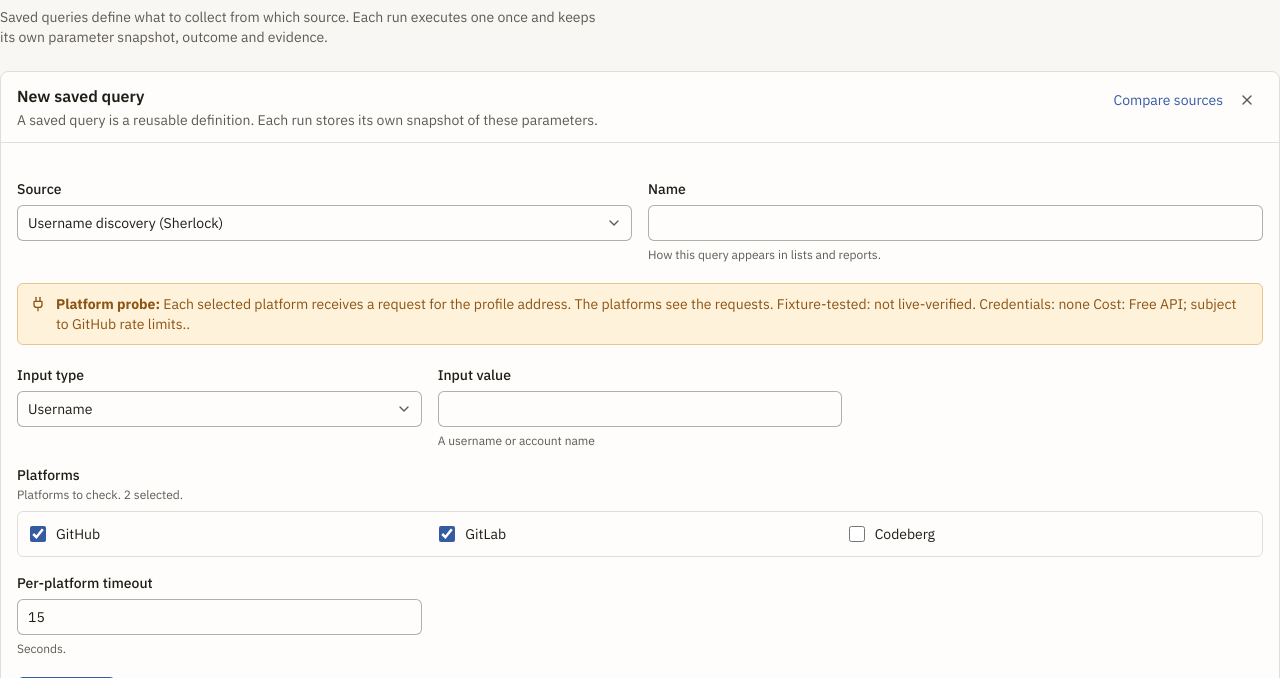
QueriesView › renders connector parameters and saves only values that differ from the defaults
The image size is (1280, 678).
Expected: the element "Platforms" is shown, 17,465 -> 1263,557
Expected: the text "Platform probe:" is shown, 56,295 -> 160,313
Click the checkbox labelled "Codeberg" at (857, 534), box 849,526 -> 865,542
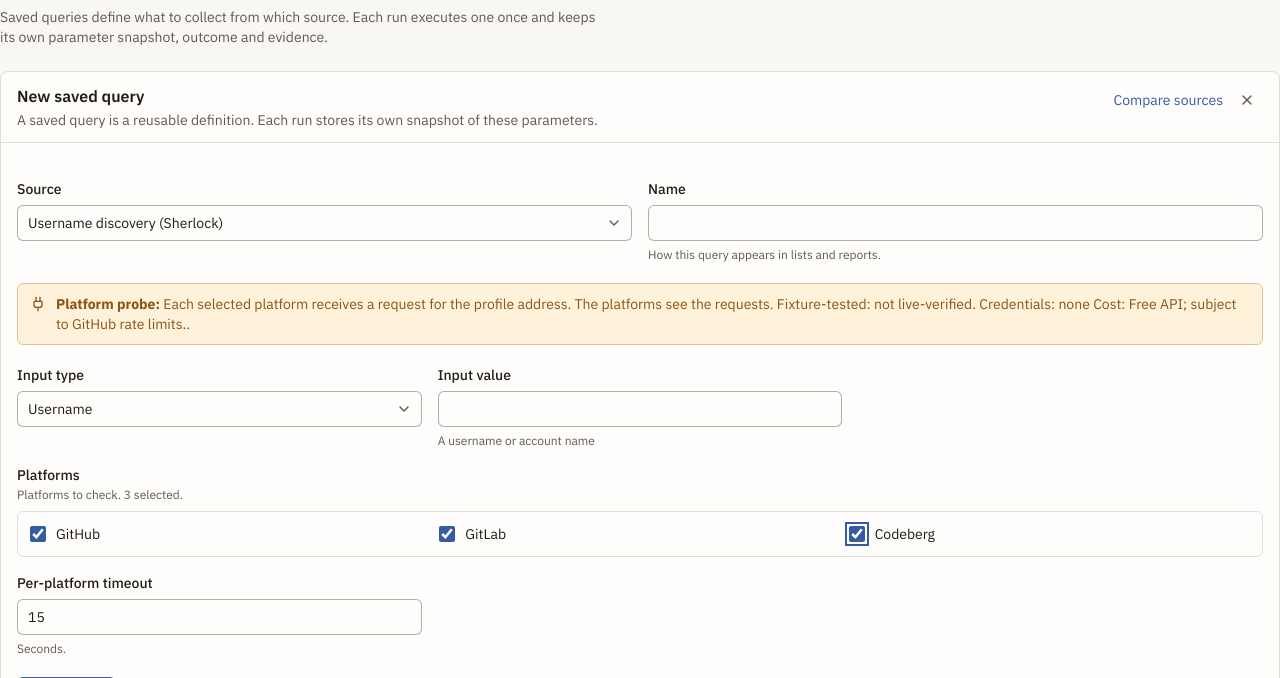
Click the checkbox labelled "GitLab" at (447, 534), box 439,526 -> 455,542
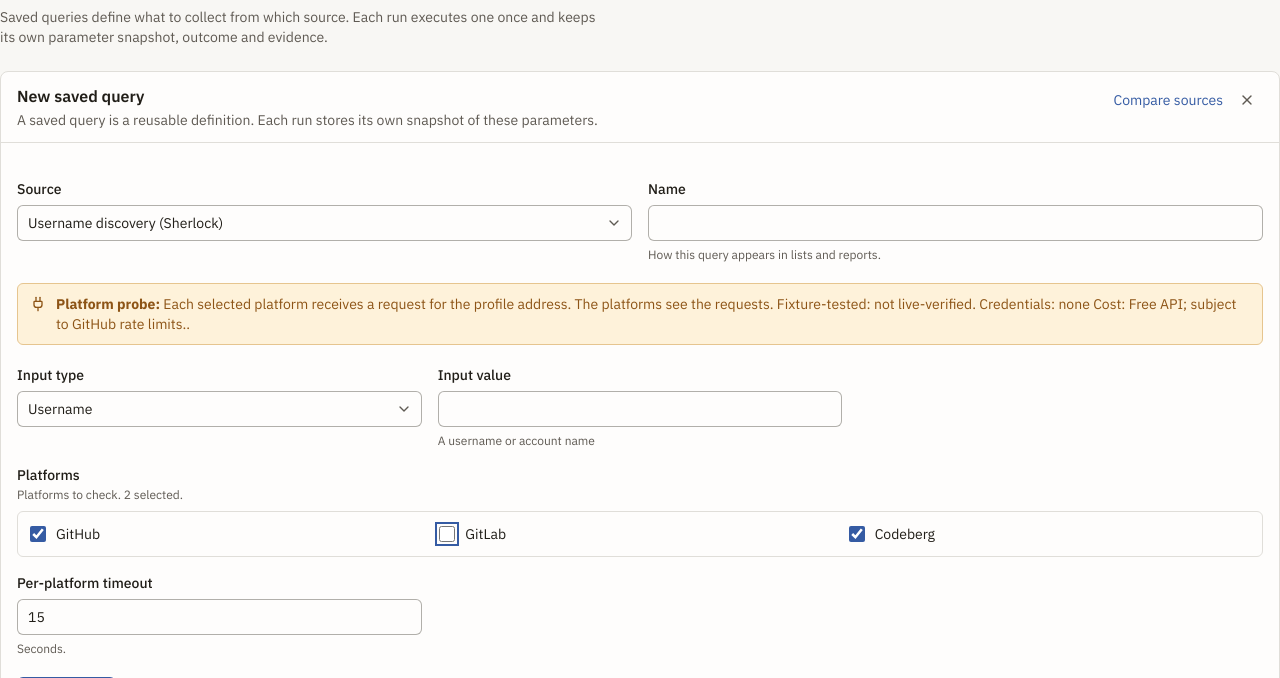
Type "Handle check" into the field labelled "Name" at (956, 223), box 648,205 -> 1263,241
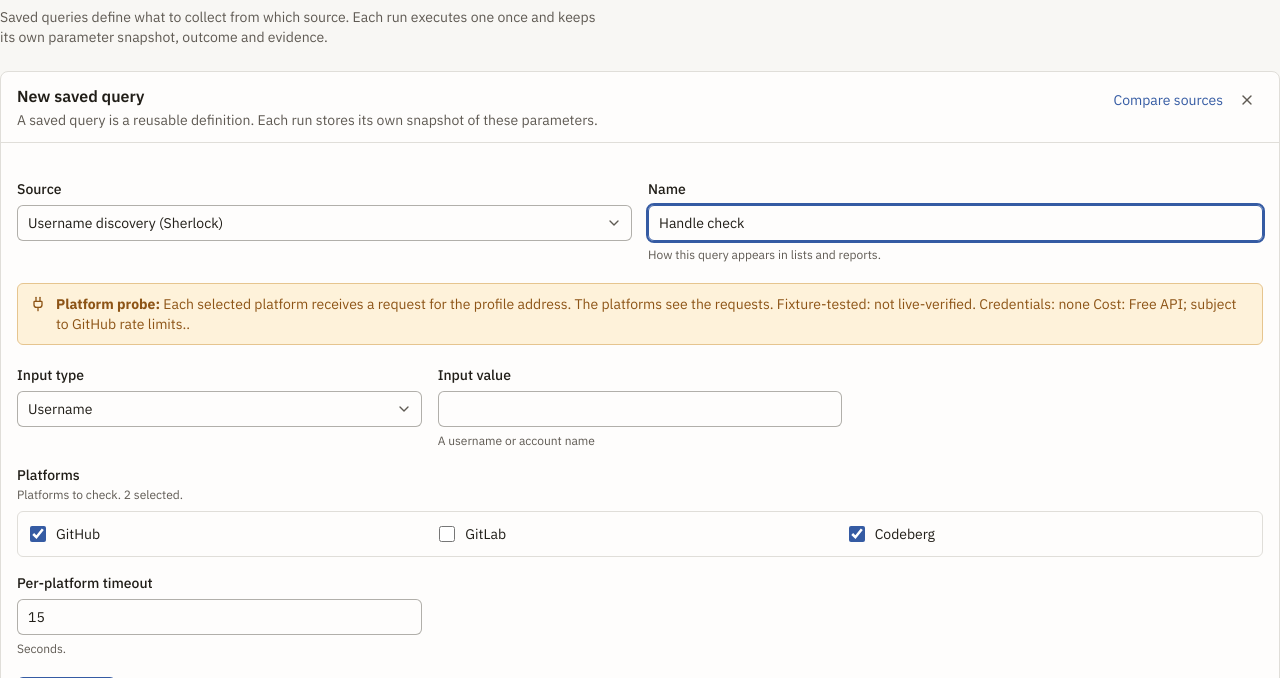
Type "ornekdev" into the field labelled "Input value" at (640, 409), box 438,391 -> 842,427
(page scrolled)
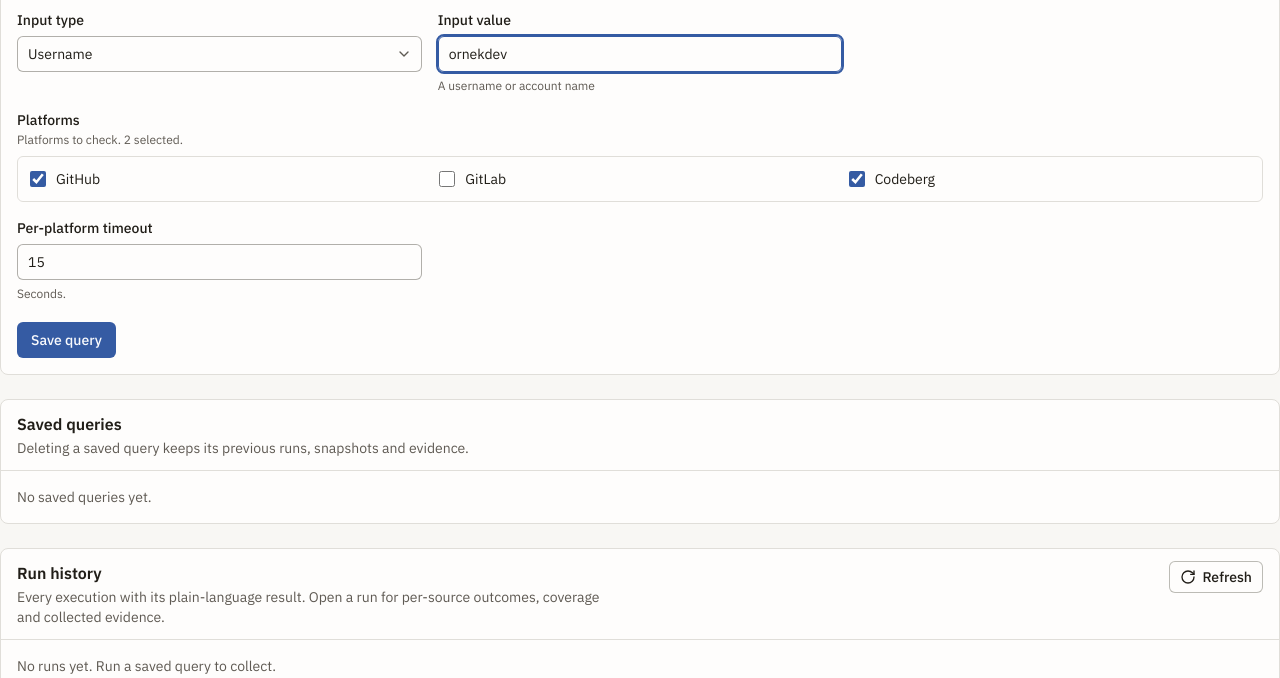
Click the button "Save query" at (66, 340), box 17,322 -> 116,358
(page scrolled)
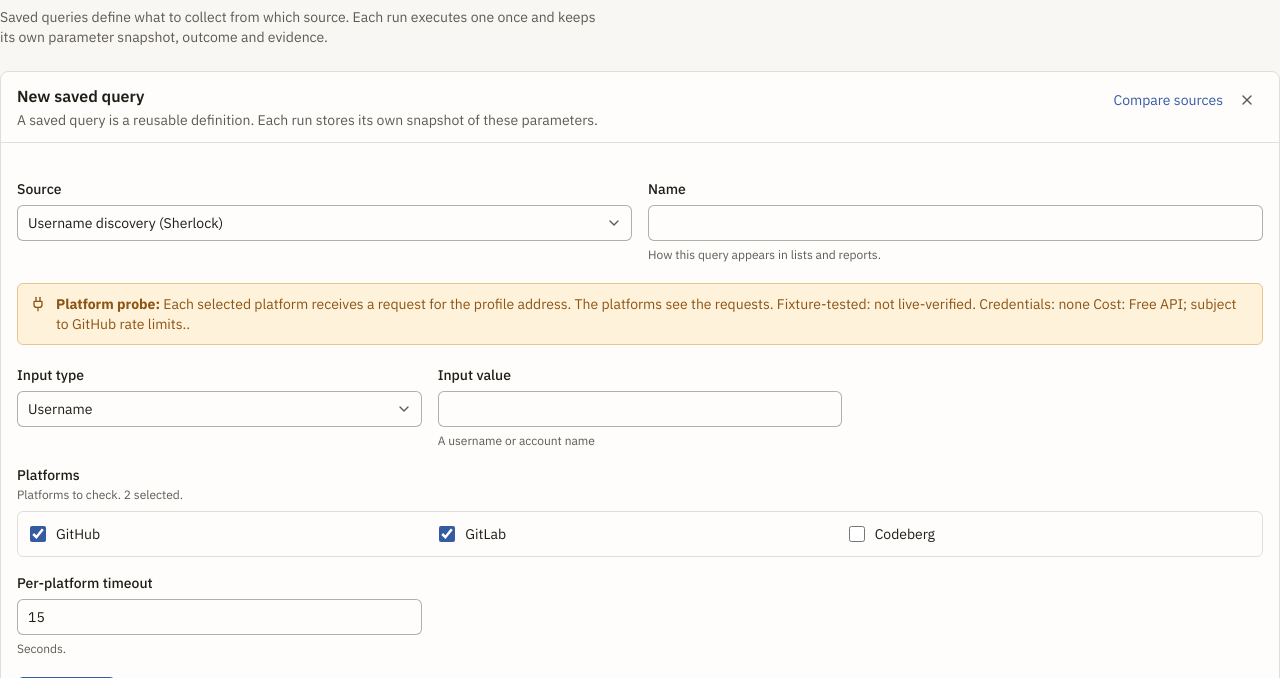
Select "GitHub account" in the dropdown labelled "Source" at (324, 223), box 17,205 -> 632,241
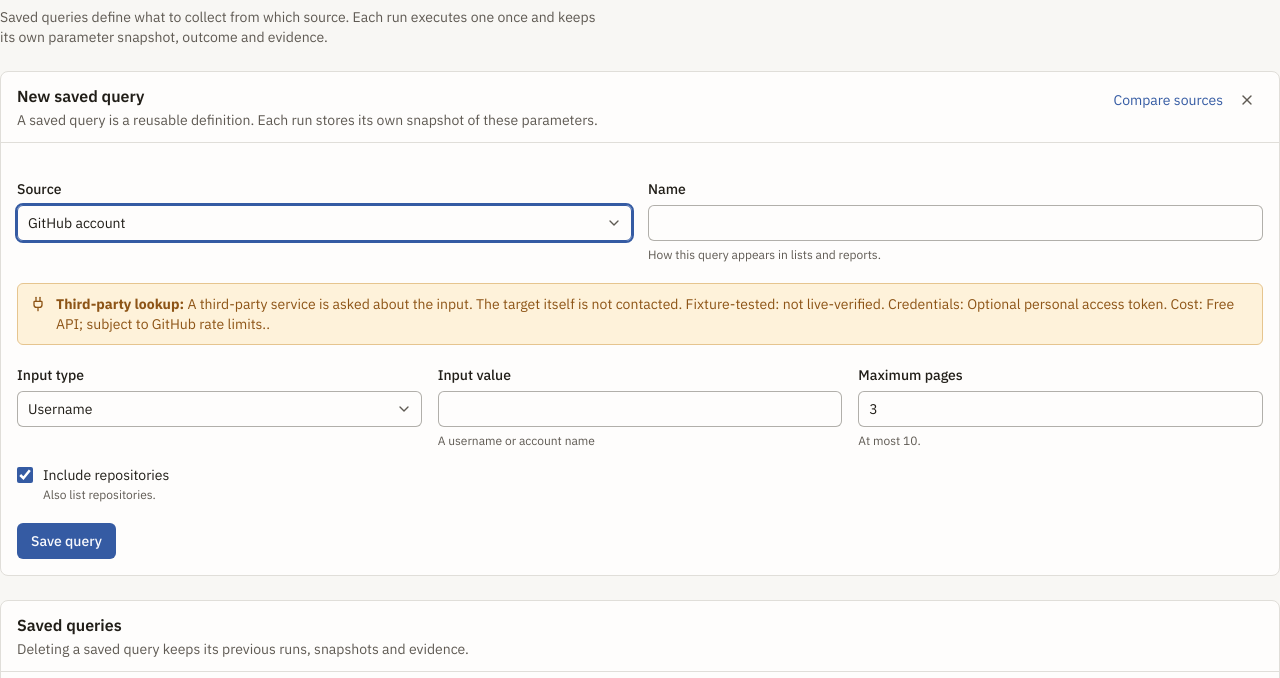
Result: the text "Third-party lookup:" is shown at 56,295 -> 184,313
Result: the checkbox labelled "Include repositories Also list repositories." is checked at 17,467 -> 33,483
